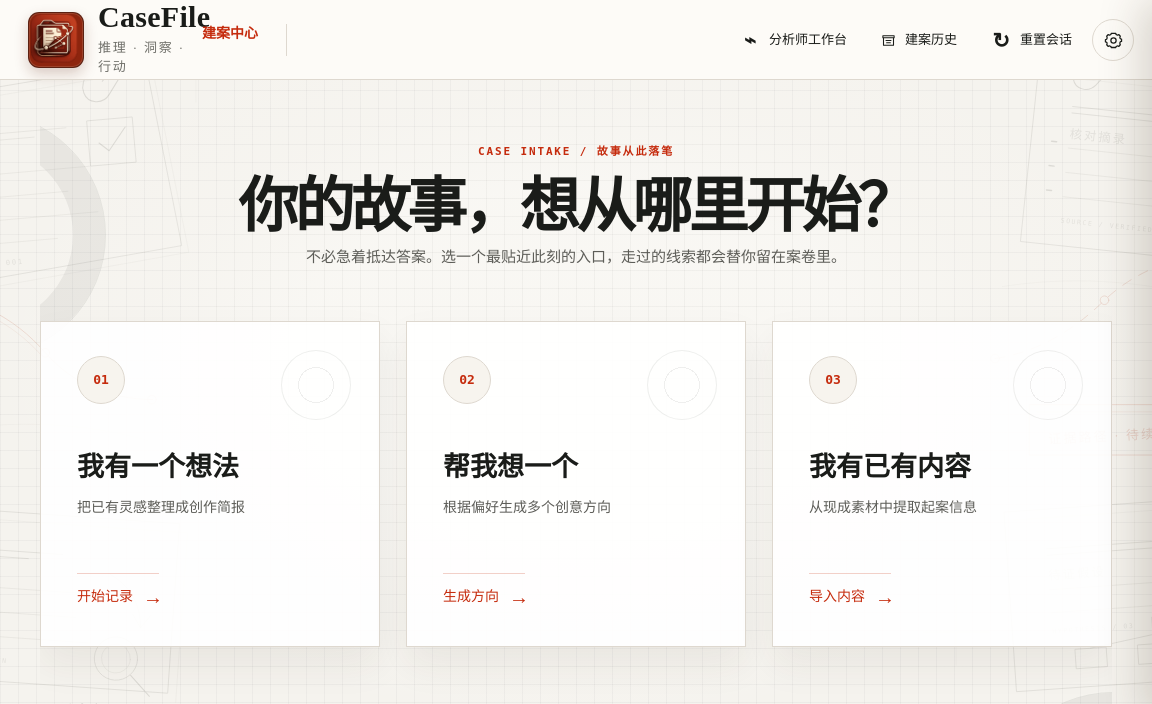
Test: intake center › lets the author form a brief when the agent decides no questions are needed
Click the button "01 我有一个想法 把已有灵感整理成创作简报 开始记录 →": point(210, 484) [40,321,380,647]
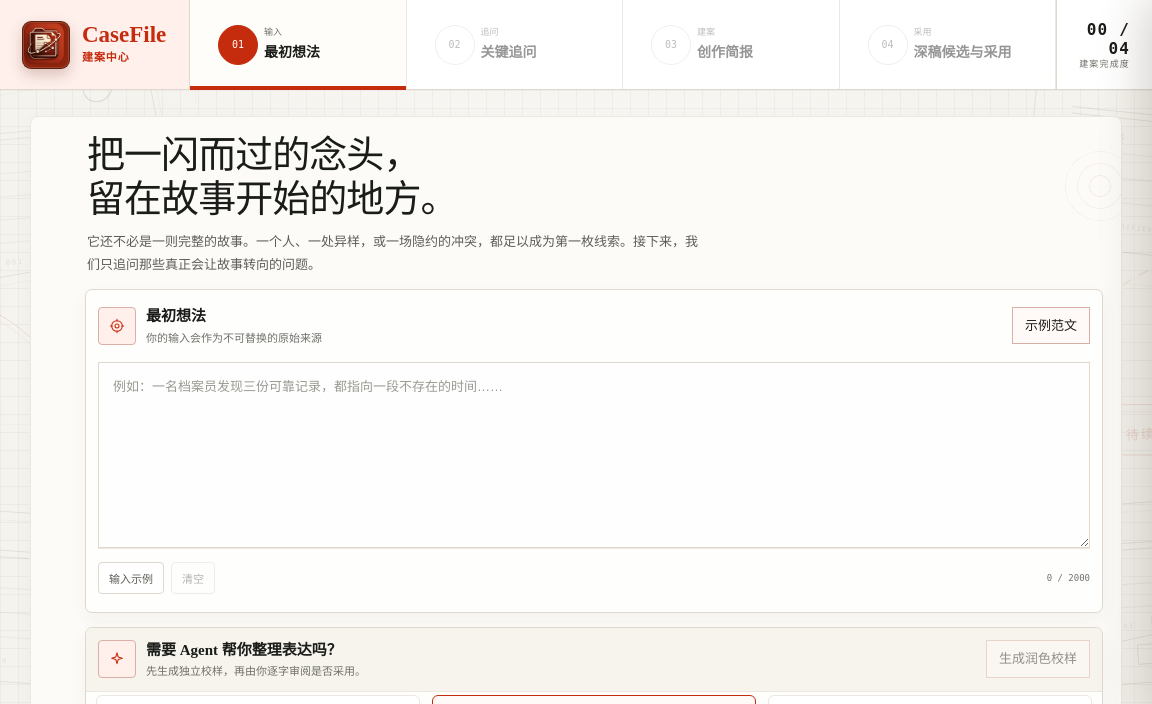
In the text box named "写下最初想法": point(594, 455) [98,362,1090,548], type "一名档案员发现三份可靠记录指向一段不存在的时间；结论由 Agent 在深稿中拟定，规模一晚完成。"
(page scrolled)
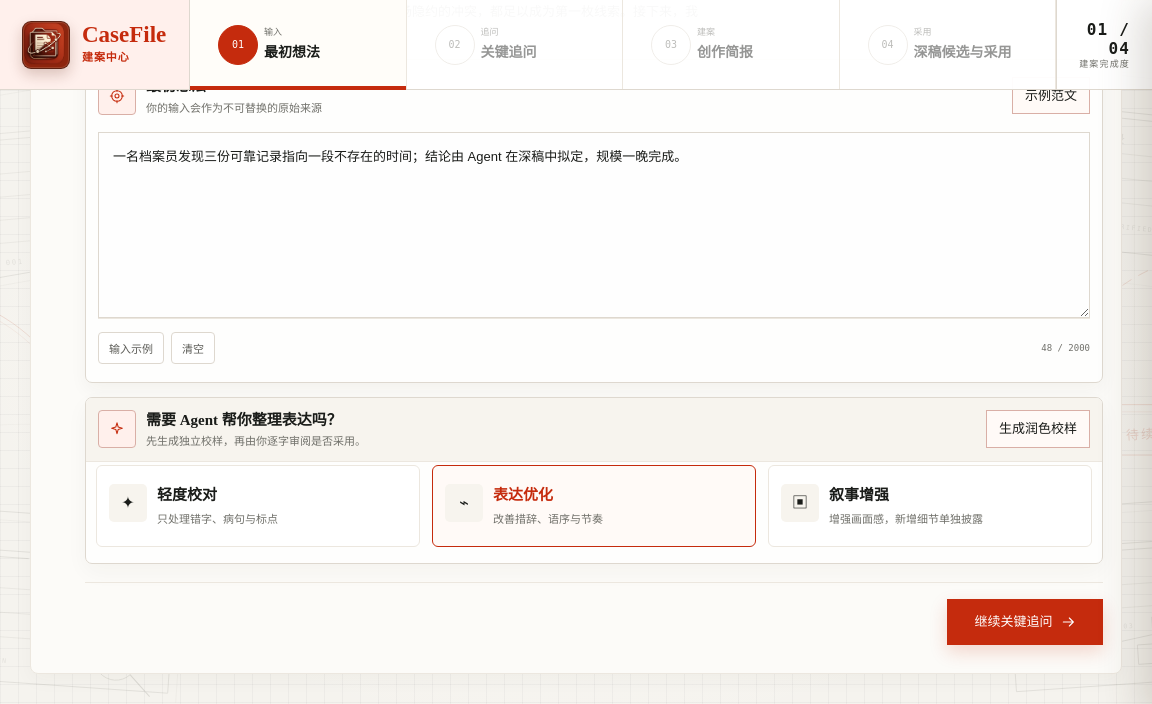
Click the button "继续关键追问": point(1025, 622) [947,599,1103,645]
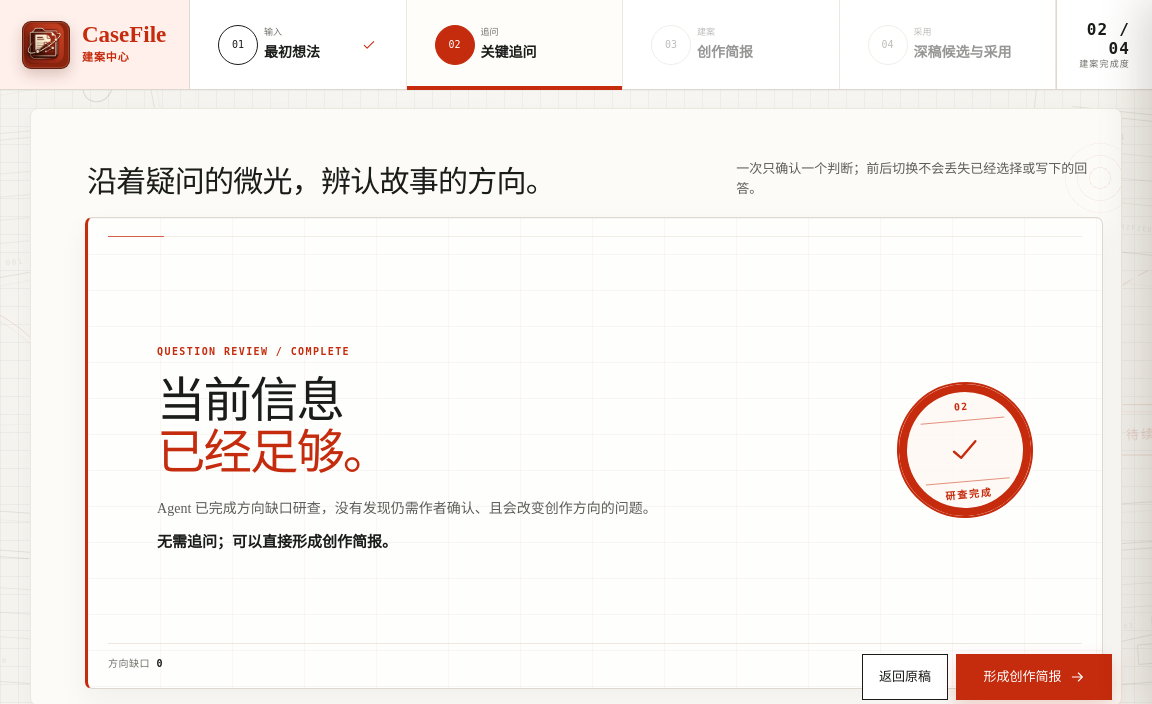
Now the button "形成创作简报" is enabled
Now the text "无需追问；可以直接形成创作简报。" is shown, box [157,531,397,553]
Now the heading named "当前信息已经足够。" is shown, box [157,374,389,480]
Click the button "形成创作简报": point(1034, 677) [956,654,1112,700]
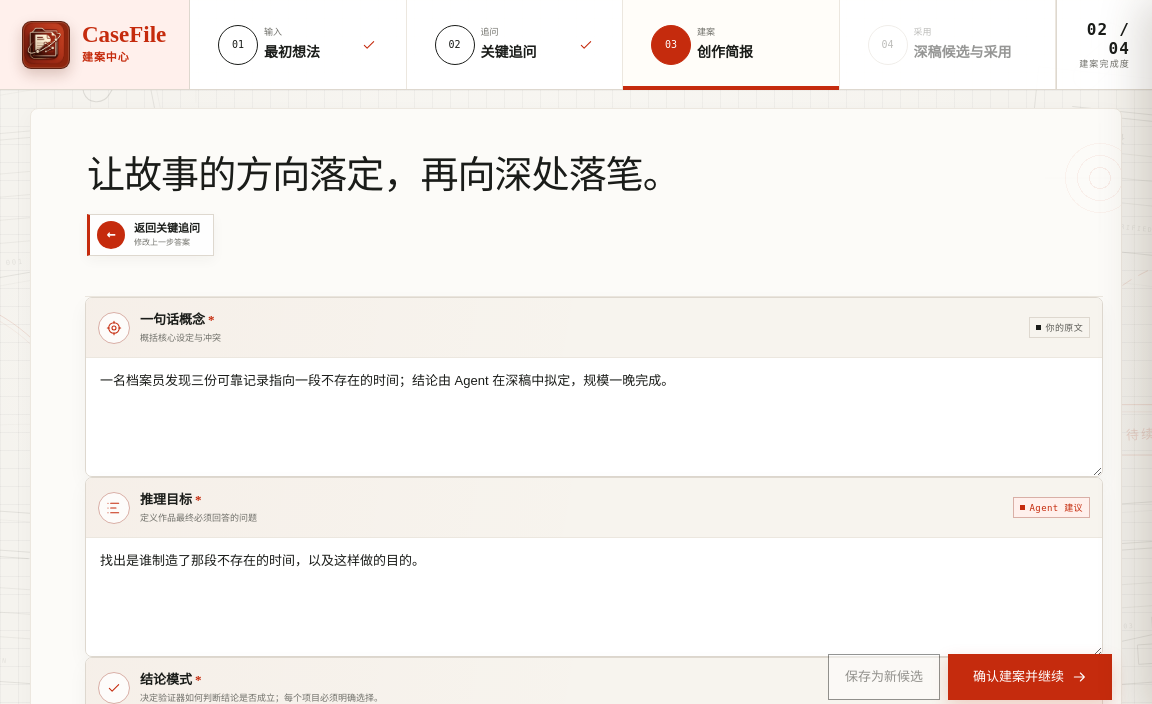
Now the heading "让故事的方向落定，再向深处落笔。" is shown, box [87,154,767,198]
